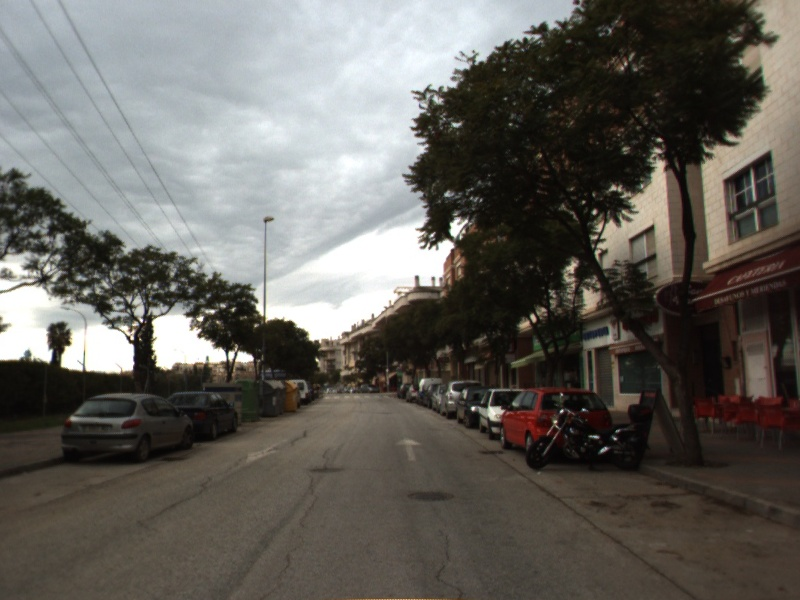STRAIGHT: (393, 434, 425, 463)
